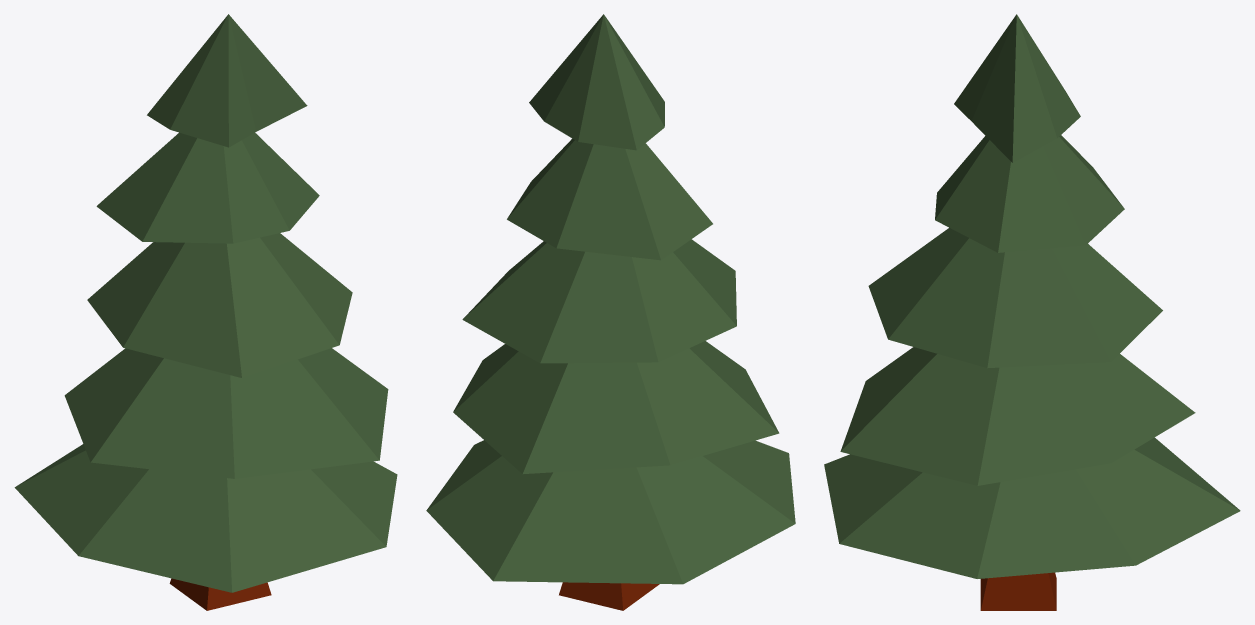
File: forest_tree_3.fbx
The picture shows the model from 3 angles, left to right: view 1: azimuth 30°, elevation 25°; view 2: azimuth 150°, elevation 25°; view 3: azimuth 270°, elevation 25°; orthographic projection.
Visible parts, largest first — view 1: ForestTree3; view 2: ForestTree3; view 3: ForestTree3.
Part boxes in pixels (box(x1,y1,x2,y2)): ForestTree3: box(14, 14, 397, 610); ForestTree3: box(426, 14, 795, 610); ForestTree3: box(824, 14, 1240, 610).
Size of the model in its own units: 919 by 1573 by 1017.
